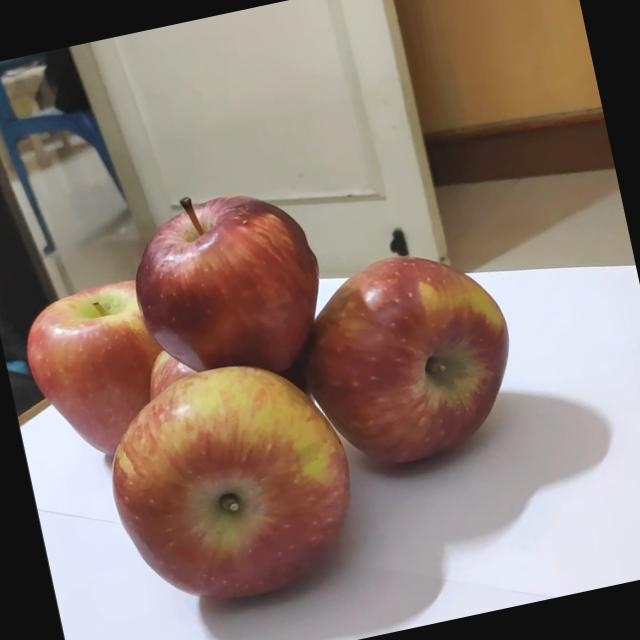apple: (83, 340, 374, 630), (276, 232, 538, 494), (104, 172, 342, 399), (13, 270, 187, 472)
